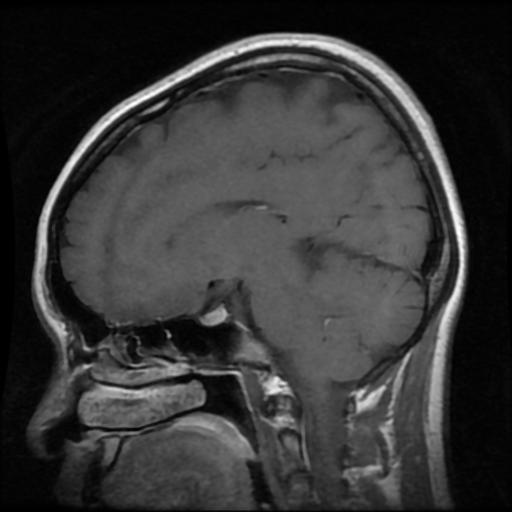Pituirity_tumour: (200, 306, 228, 323)
